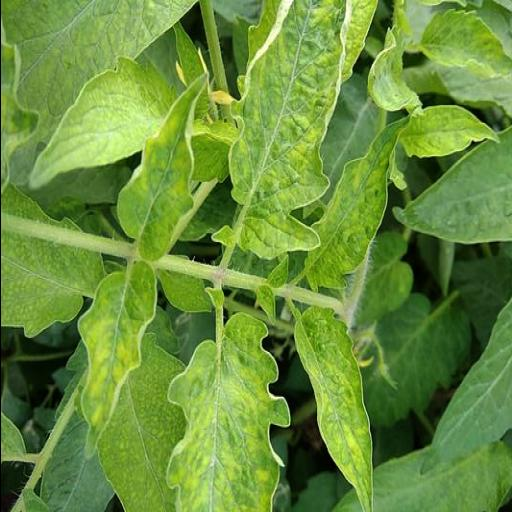Mosaic Virus: (226, 0, 348, 259), (165, 318, 295, 512), (300, 108, 420, 296), (74, 260, 158, 462), (115, 76, 207, 260), (293, 306, 375, 512)
